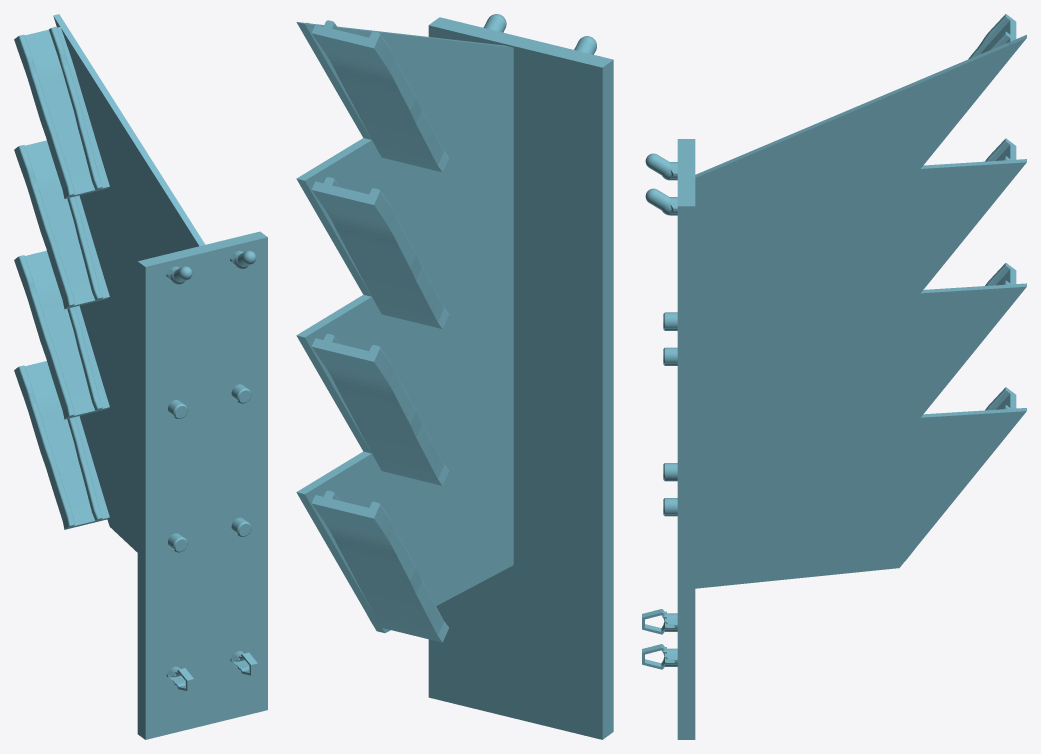
File: part-tweezers-v8__current-mounts-v1__fit-pf02c9-hoop5__installed.glb
3 renders of one model, left to right at view 1: azimuth 30°, elevation 25°; view 2: azimuth 150°, elevation 25°; view 3: azimuth 270°, elevation 25°, orthographic. The views are drawn at different scales.
Parts seen in each view (by area): view 1: installed.stl; view 2: installed.stl; view 3: installed.stl.
Part boxes in pixels (left/top/right/bottom): installed.stl: left=14, top=14, right=267, bottom=739; installed.stl: left=296, top=14, right=613, bottom=739; installed.stl: left=642, top=14, right=1026, bottom=739.
Bounding box in the file's own units: 0.0488 × 0.227 × 0.1178.
